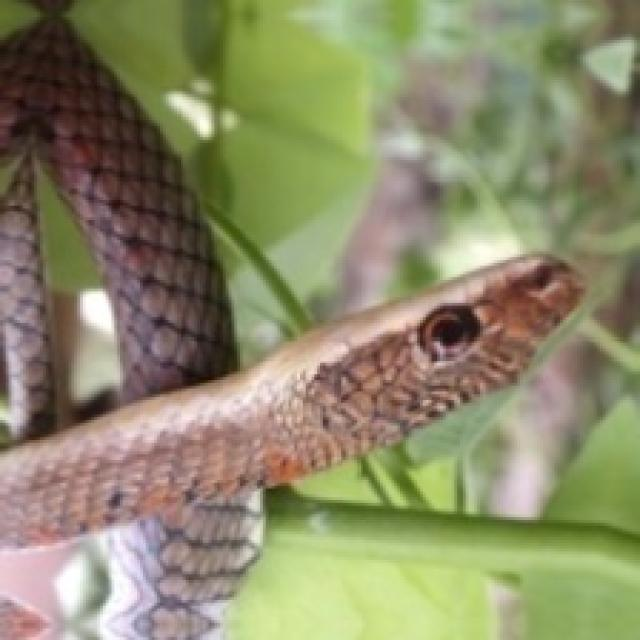paradise tree snake: (0, 254, 580, 637), (0, 0, 234, 443), (0, 0, 231, 434), (0, 491, 257, 637), (154, 37, 277, 271)
